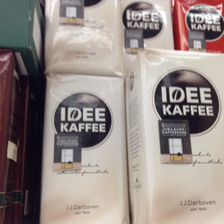coffee: (124, 47, 224, 223), (37, 73, 125, 224)
